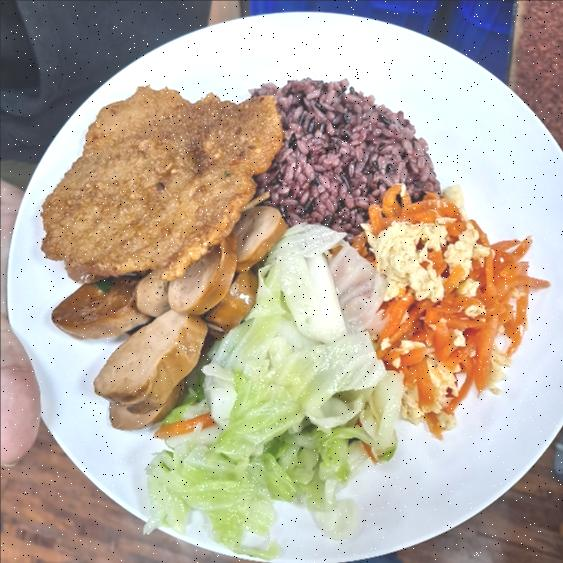braised pork ribs: (33, 74, 284, 284)
plate: (5, 17, 563, 563)
purple rice: (245, 74, 443, 224)
side dish: (147, 226, 390, 536), (47, 203, 282, 434), (362, 182, 540, 432)
